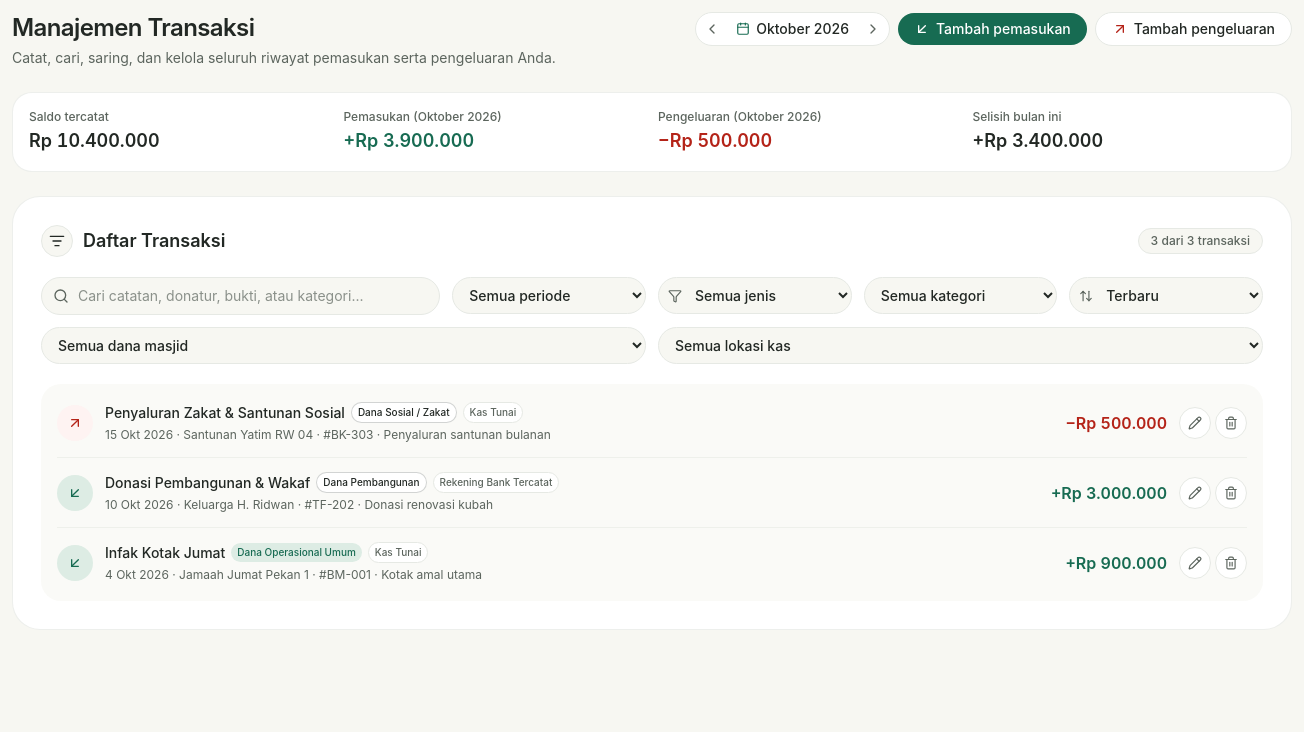
Nota Mosque Milestone M3 — Mosque Transactions, Fund/Account Filters, & Soft Guard Confirmation › filters transactions by Dana Masjid (fundId), Lokasi Kas (accountId), and searches by donorOrPayee and referenceNo
Expected: the text with test id "filtered-transaction-count" reads "3 dari 3 transaksi", [1138, 228, 1263, 254]
Filter by Dana Masjid: Dana Pembangunan
Select "Dana Pembangunan (Dana Terikat)" in the dropdown named "Filter dana masjid" at (344, 346), box [41, 327, 646, 364]
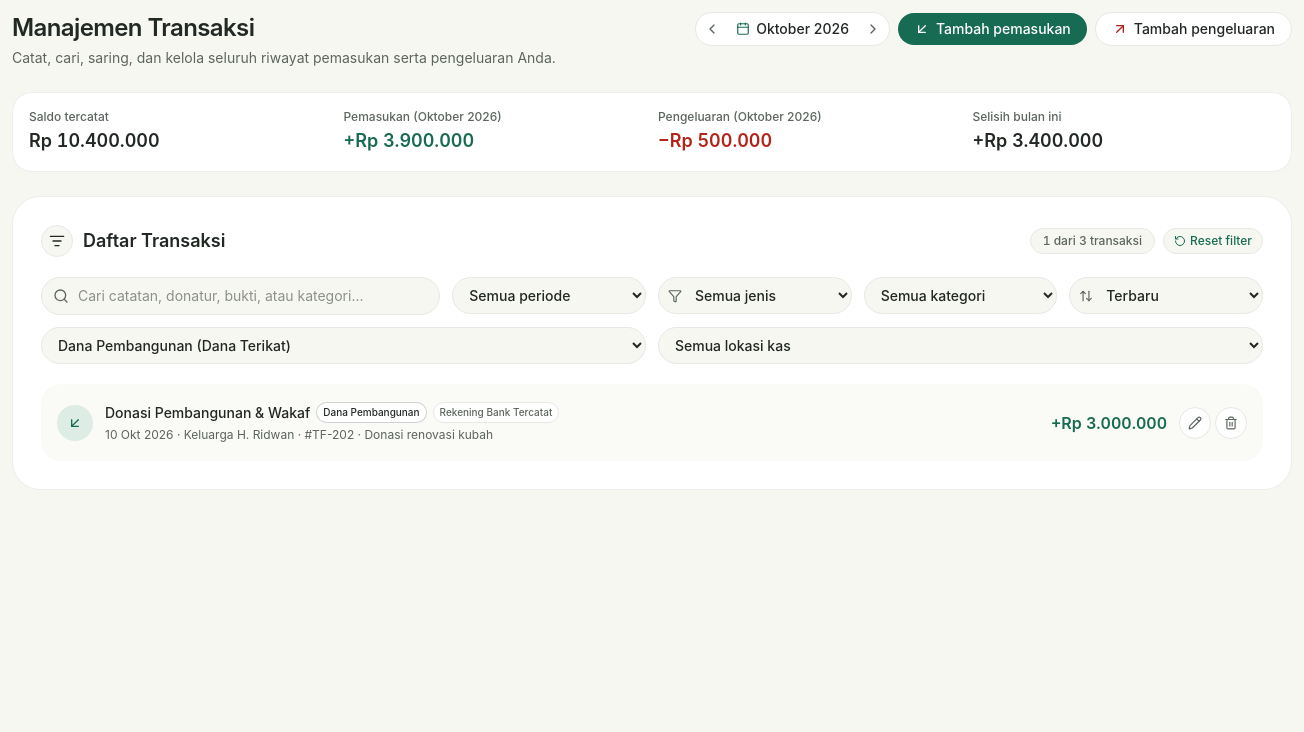
Expected: the text "· Donasi renovasi kubah" is shown, [354, 427, 493, 442]
Now the text with test id "filtered-transaction-count" reads "1 dari 3 transaksi", box [1030, 228, 1155, 254]
Reset filter
Click the button "Reset filter" at (1213, 241), box [1163, 228, 1263, 254]
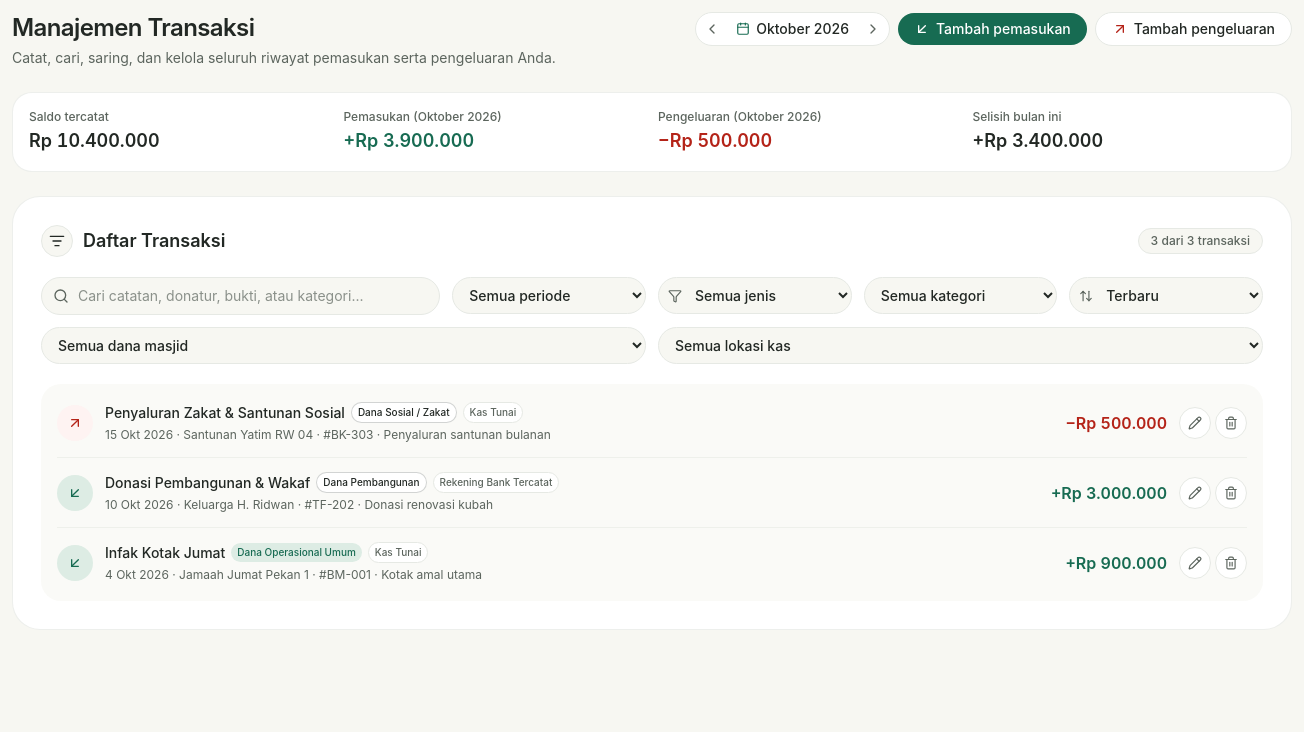
Now the text with test id "filtered-transaction-count" reads "3 dari 3 transaksi", box [1138, 228, 1263, 254]
Filter by Lokasi Kas: Kas Tunai
Select "Kas Tunai" in the dropdown named "Filter lokasi kas" at (960, 346), box [658, 327, 1263, 364]
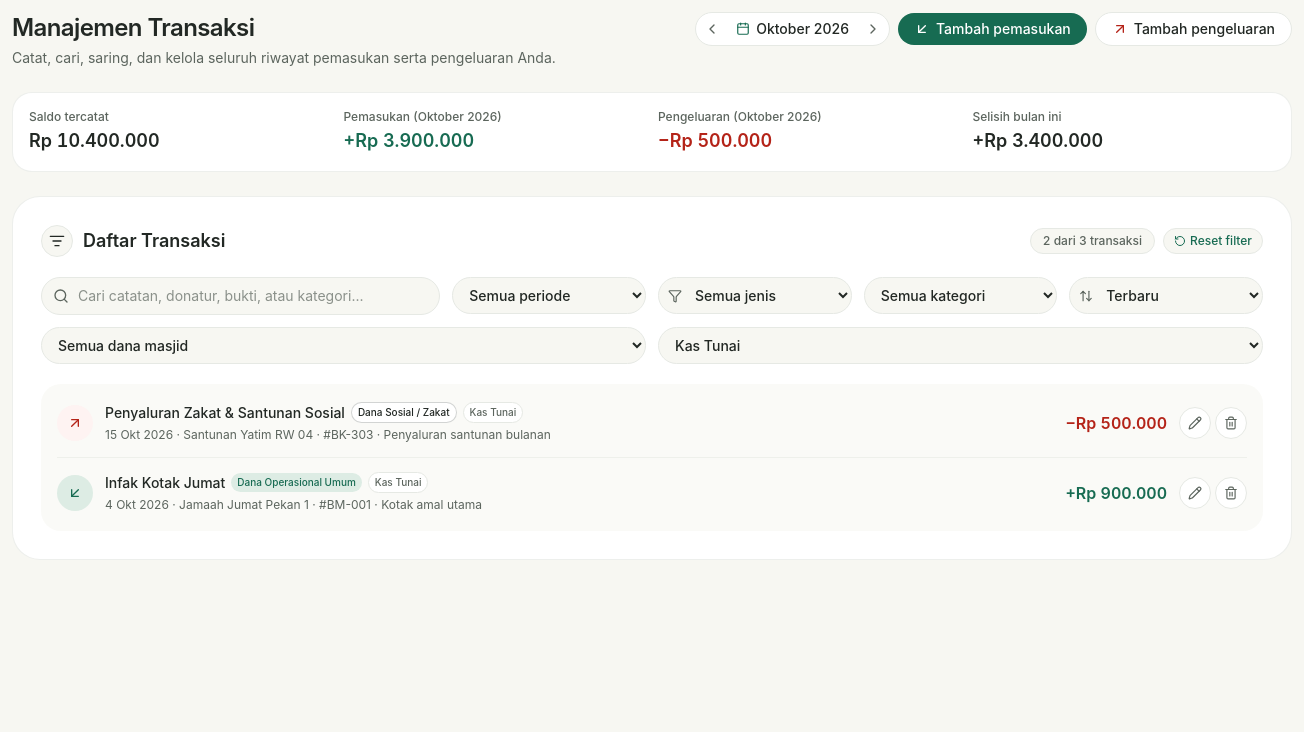
Now the text with test id "filtered-transaction-count" reads "2 dari 3 transaksi", box [1030, 228, 1155, 254]
Search by donorOrPayee ('Santunan Yatim RW 04')
Type "Yatim RW 04" into the search field named "Cari transaksi" at (241, 296), box [41, 277, 440, 315]
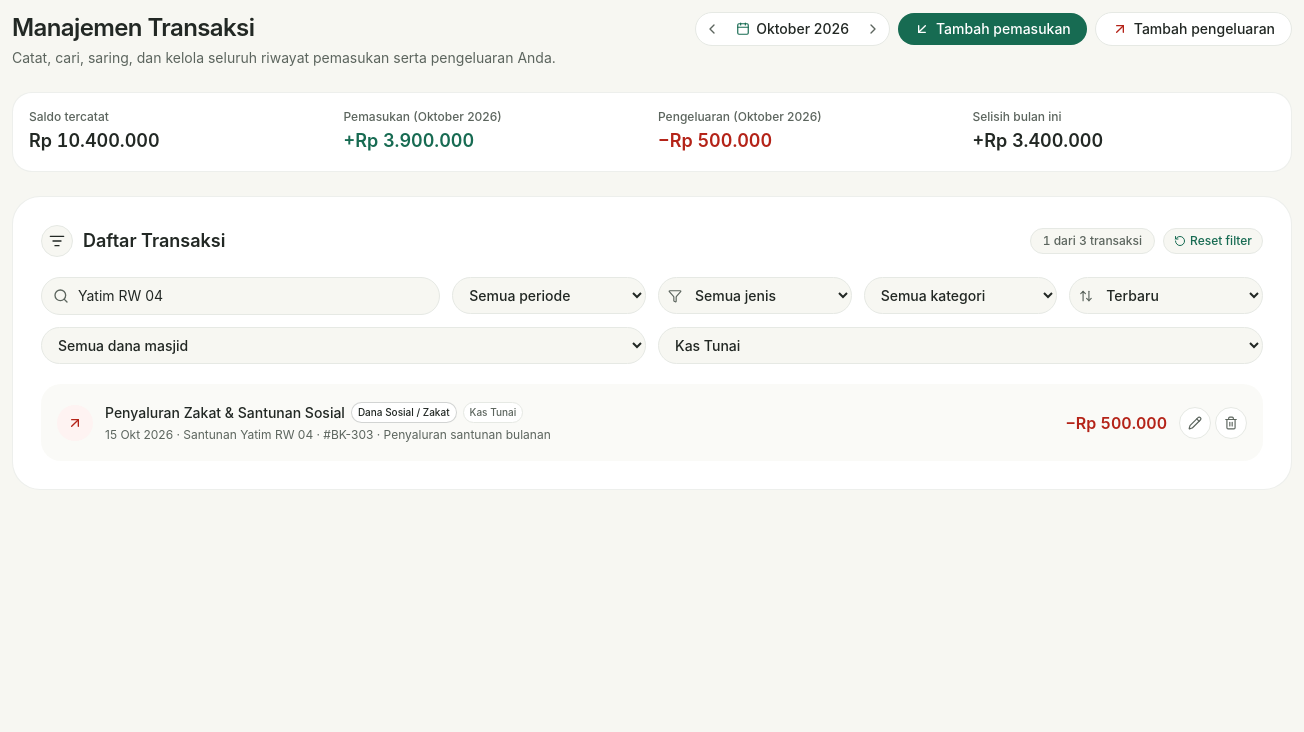
Now the text "· Penyaluran santunan bulanan" is shown, box [373, 427, 551, 442]
Now the text with test id "filtered-transaction-count" reads "1 dari 3 transaksi", box [1030, 228, 1155, 254]
Search by referenceNo ('TF-202') after resetting account filter
Click the button "Reset filter" at (1213, 241), box [1163, 228, 1263, 254]
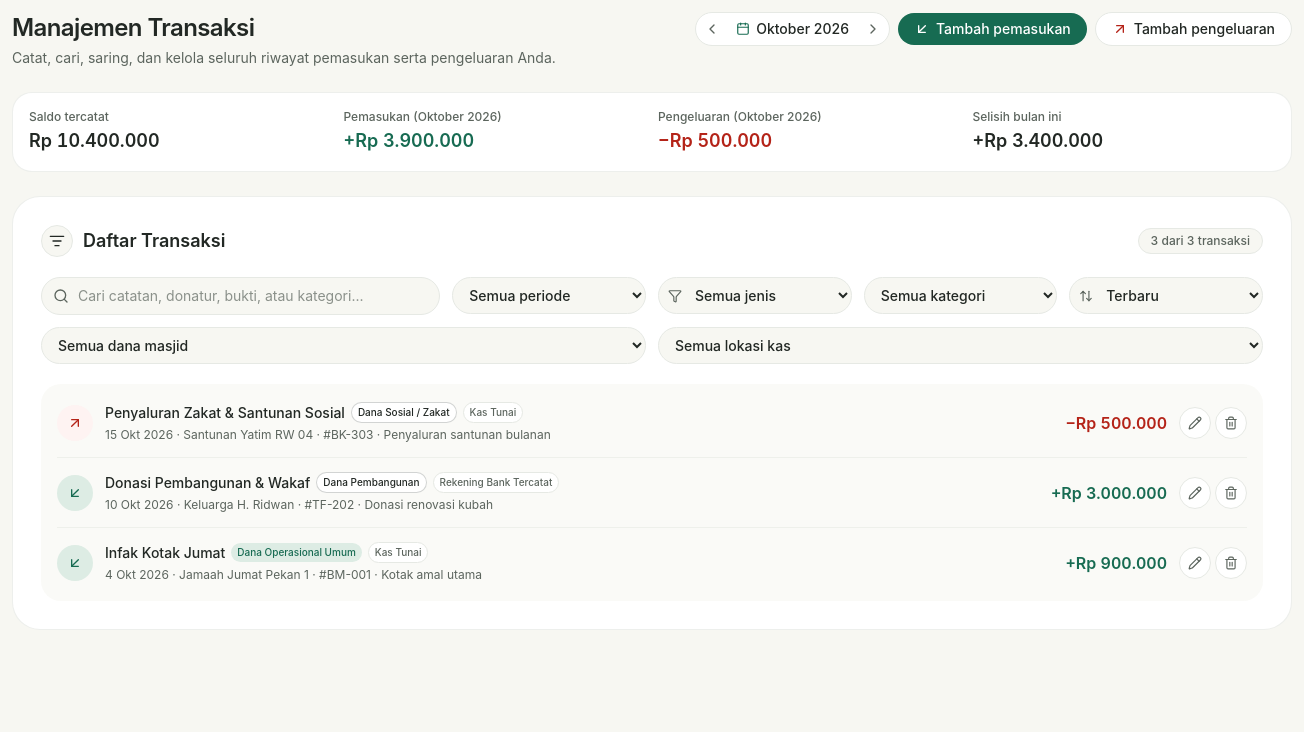
Type "TF-202" into the search field named "Cari transaksi" at (241, 296), box [41, 277, 440, 315]
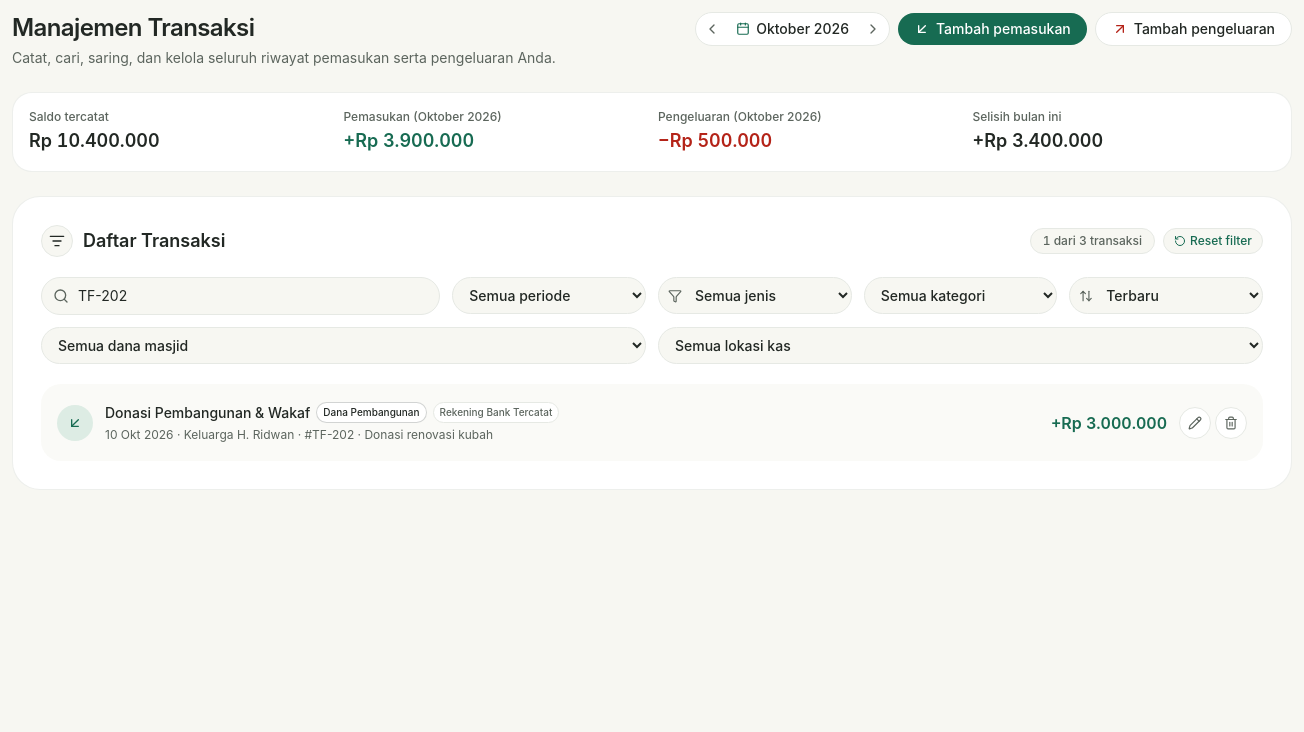
Now the text "· Keluarga H. Ridwan" is shown, box [174, 427, 294, 442]
Now the text with test id "filtered-transaction-count" reads "1 dari 3 transaksi", box [1030, 228, 1155, 254]
